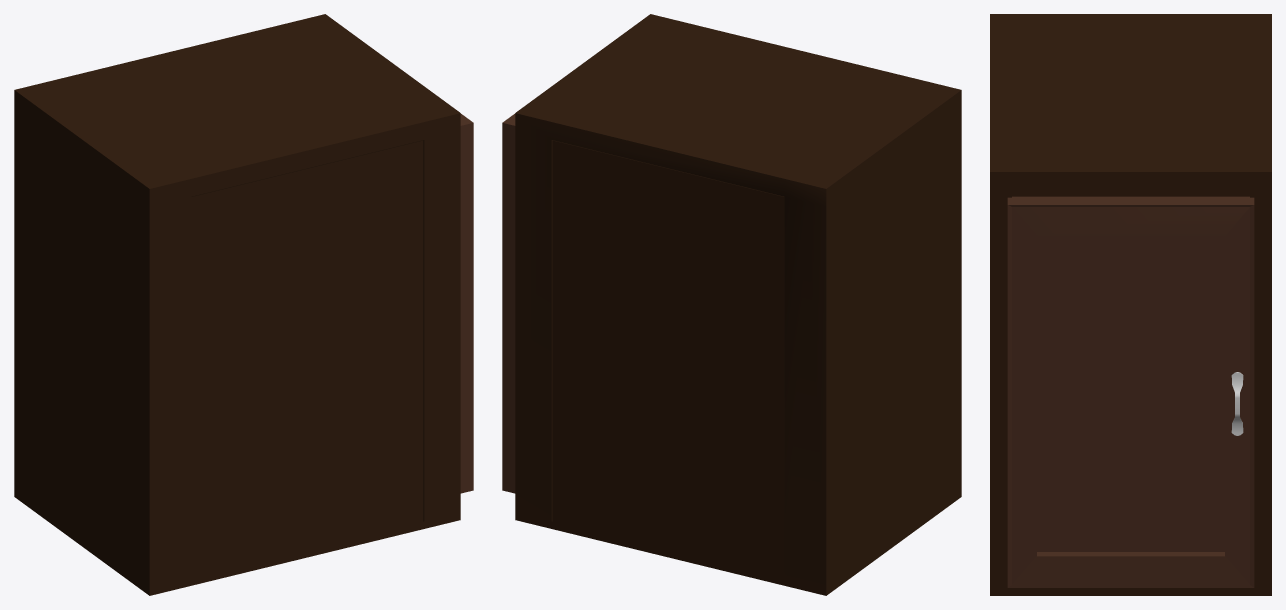
Rendered from KitchenUpperCabinetLarge.fbx.
3 views of the same model, side by side, from view 1: azimuth 30°, elevation 25°; view 2: azimuth 150°, elevation 25°; view 3: azimuth 270°, elevation 25° (orthographic). The views are drawn at different scales.
Parts seen in each view (by area): view 1: largeuppercabinet; view 2: largeuppercabinet; view 3: largeuppercabinet.
Part boxes in pixels (<box>): largeuppercabinet: <box>14,14,473,595</box>; largeuppercabinet: <box>502,14,961,595</box>; largeuppercabinet: <box>990,14,1271,595</box>.
Size of the model in its own units: 88.38 by 102 by 61.25.
